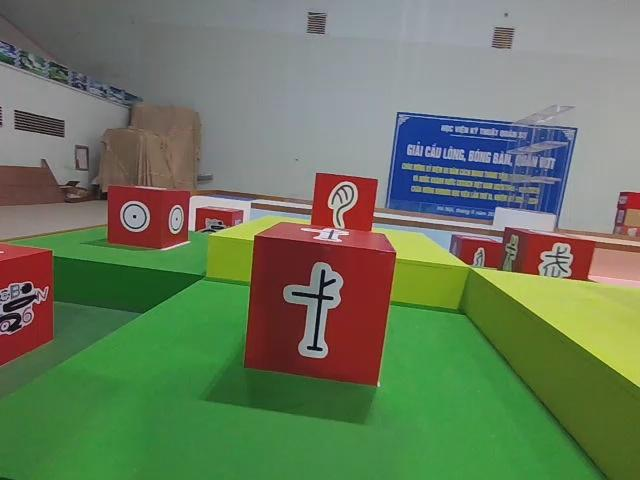R1: (0, 243, 54, 365), (196, 207, 244, 245)
R2 Fake: (496, 227, 595, 288), (310, 172, 377, 239)
R2 Real: (246, 223, 397, 385), (106, 187, 187, 251)
